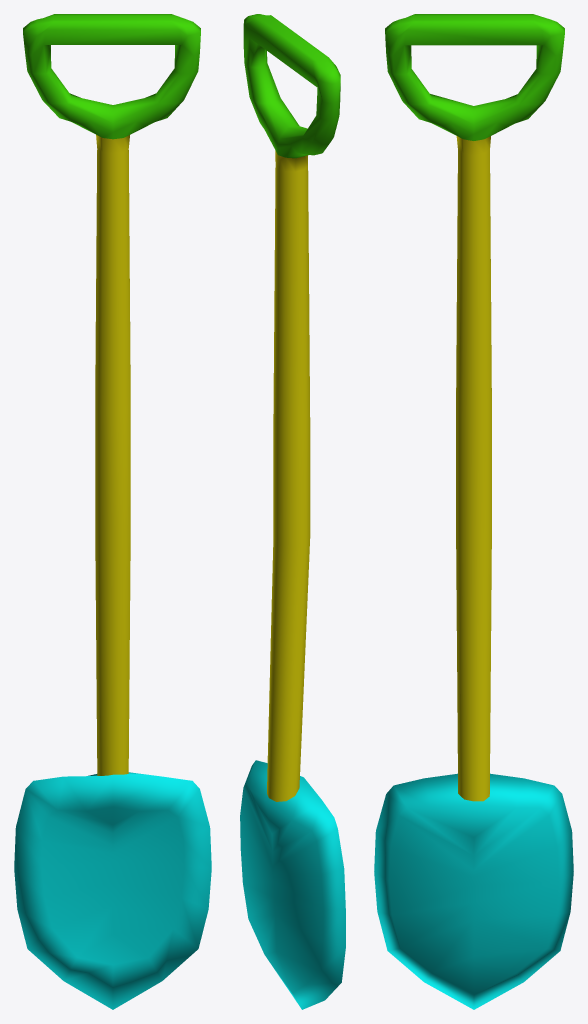
The model's file is Objeto_Pa_01.fbx.
The picture shows the model from 3 angles, left to right: view 1: azimuth 90°, elevation 25°; view 2: azimuth 210°, elevation 25°; view 3: azimuth 270°, elevation 25°; orthographic projection. The views are drawn at different scales.
Parts seen in each view (by area): view 1: Pa; view 2: Pa; view 3: Pa.
Part boxes in pixels (x1,y1,x2,y2): Pa: (14,14,211,1009); Pa: (240,14,345,1009); Pa: (374,14,573,1009).
Bounding box in the file's own units: 6.34 × 138 × 25.03.
